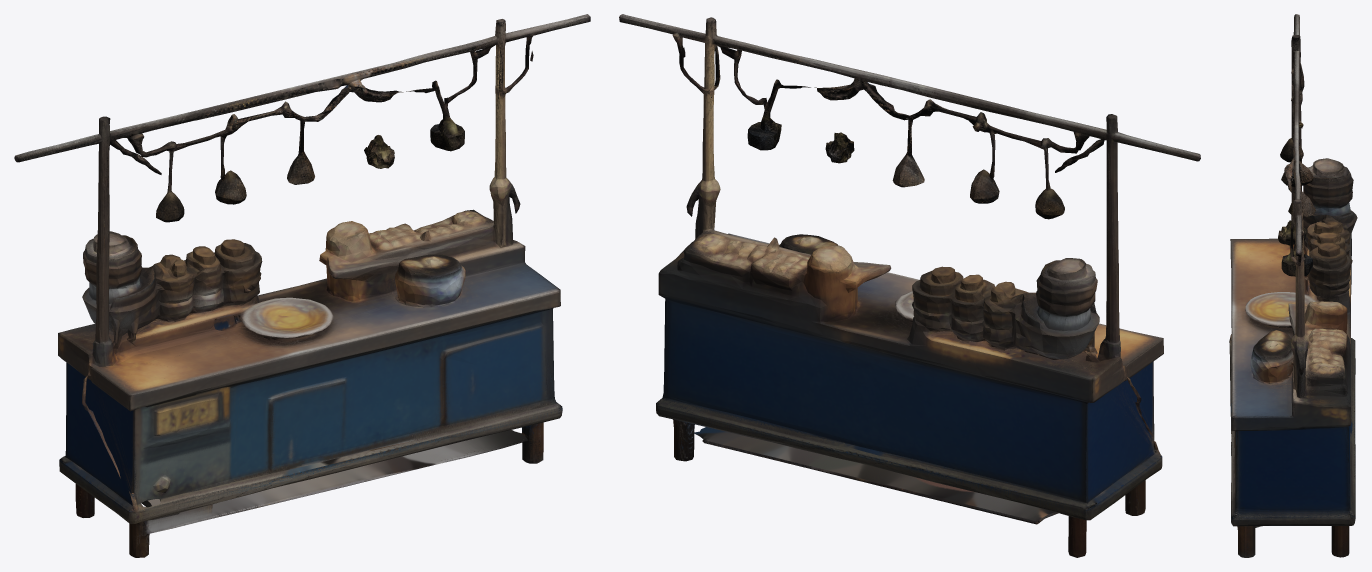
The picture shows the model from 3 angles, left to right: view 1: azimuth 30°, elevation 25°; view 2: azimuth 150°, elevation 25°; view 3: azimuth 270°, elevation 25°; orthographic projection. The views are drawn at different scales.
Parts seen in each view (by area): view 1: world; view 2: world; view 3: world.
Boxes of the visible parts, x1,y1,x2,y2 form: world: (14,14,590,557); world: (619,14,1200,557); world: (1229,14,1357,557).
Bounding box in the file's own units: 100 × 69.48 × 22.8.
Materials: 1 (1 with a texture image).
